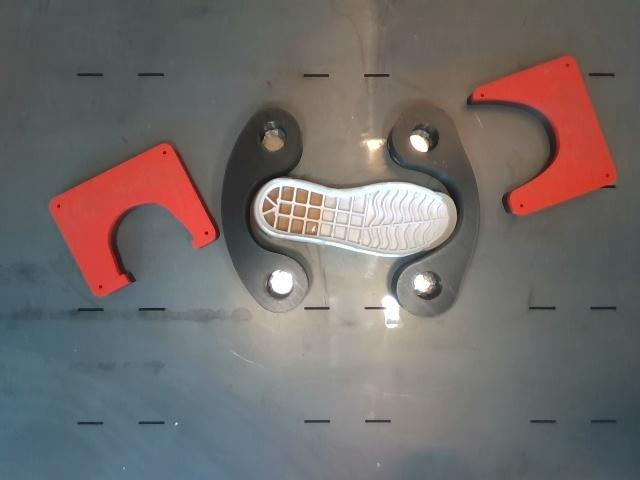shoes: (256, 181, 456, 255)
